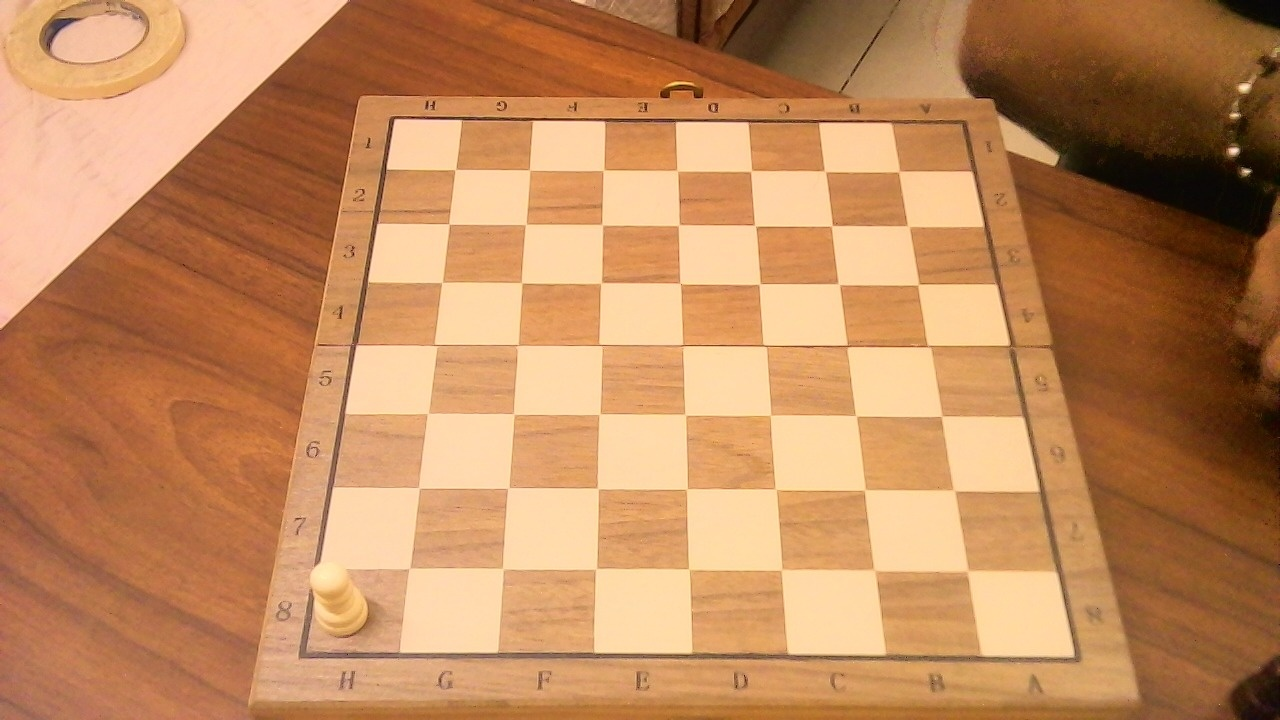P: (306, 549, 394, 641)
